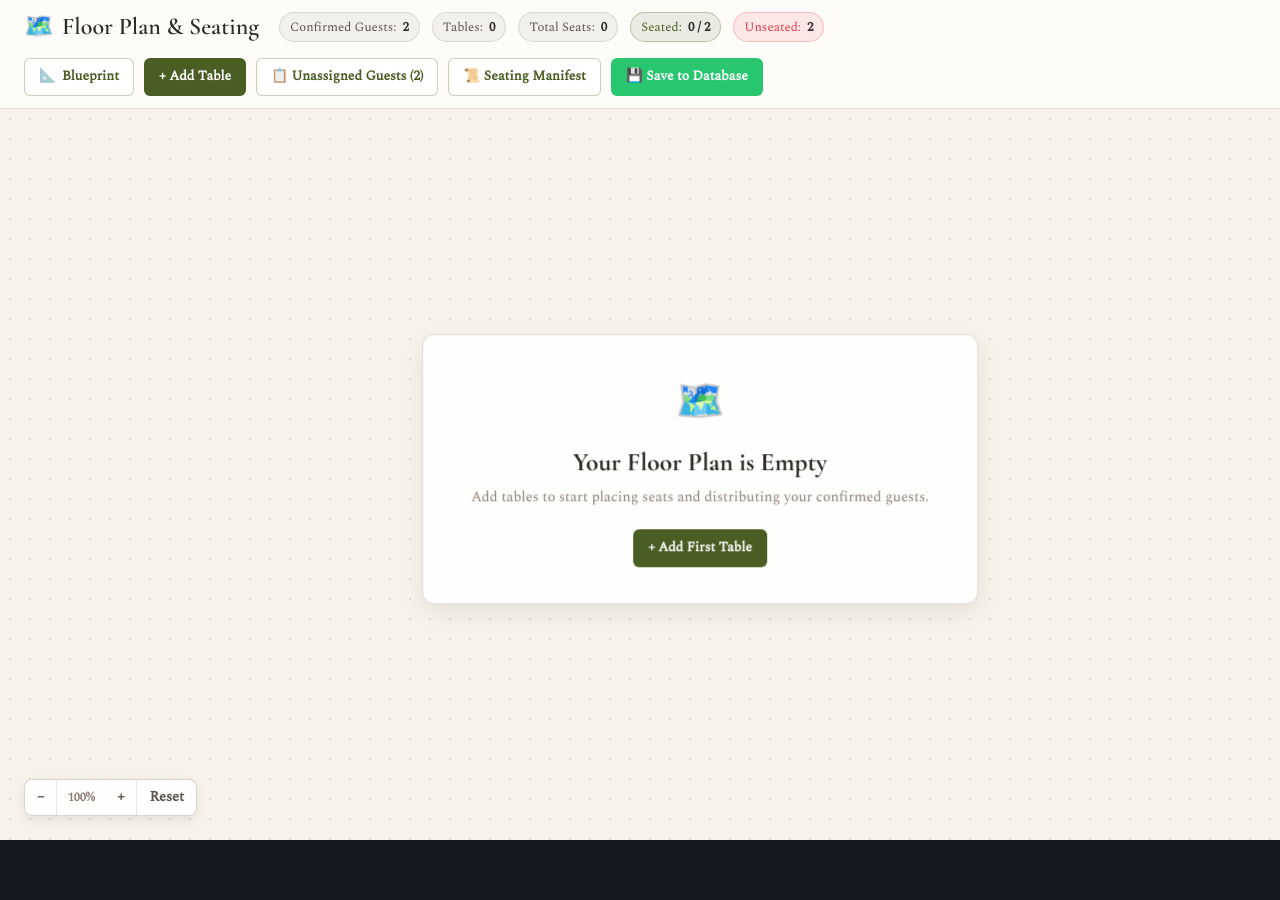
Scenario: FloorPlanView Component › toggles the Seating Manifest modal from the header action button
Click the button with test id "toggle-seating-manifest-btn": (525, 77) [448,58,601,96]
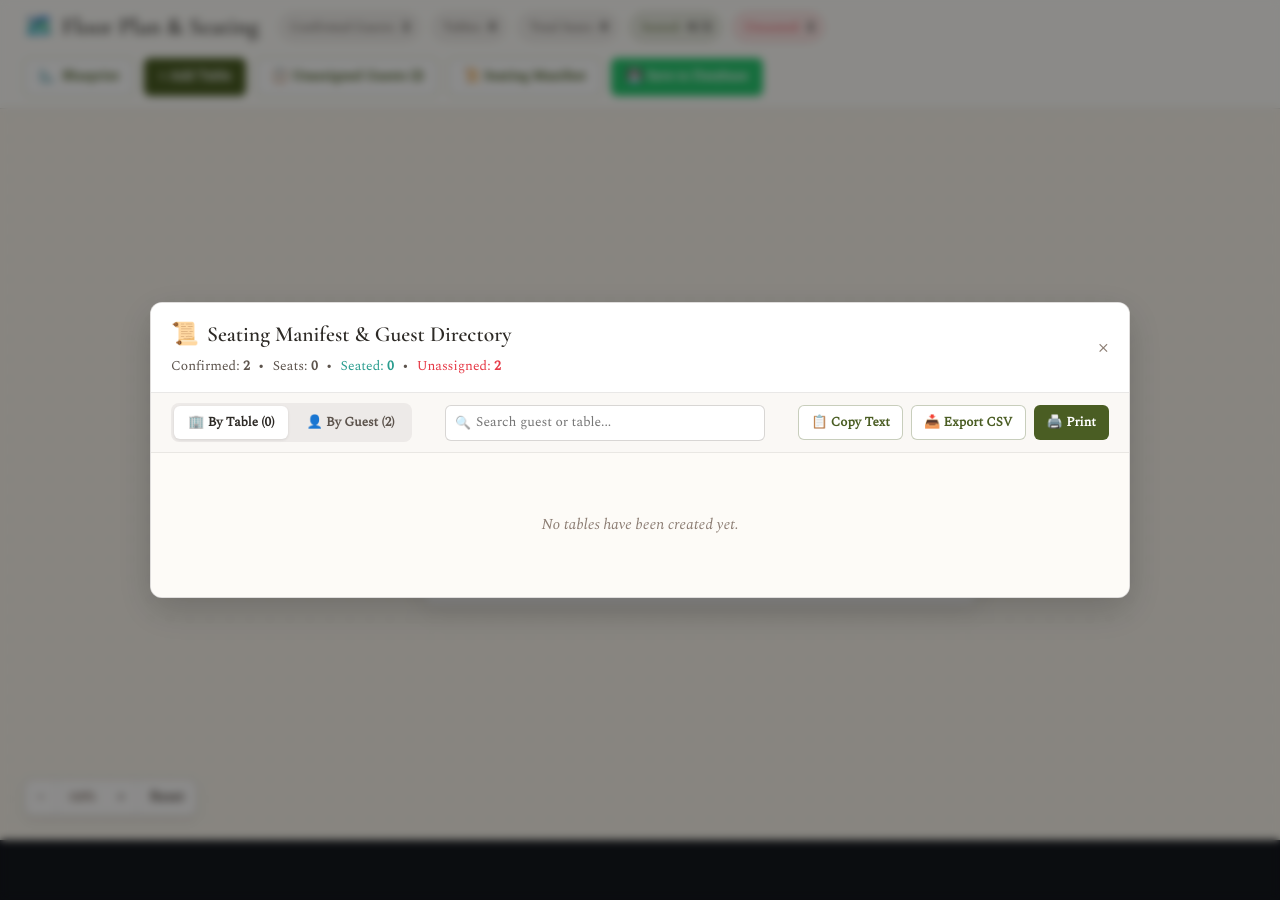
Expected: the element with test id "seating-manifest-modal" is shown, [150,302,1130,598]
Expected: the heading "Seating Manifest & Guest Directory" is shown, [207,322,512,347]
Note: Close modal
Click the button with test id "close-manifest-btn": (1103, 347) [1098,336,1109,358]
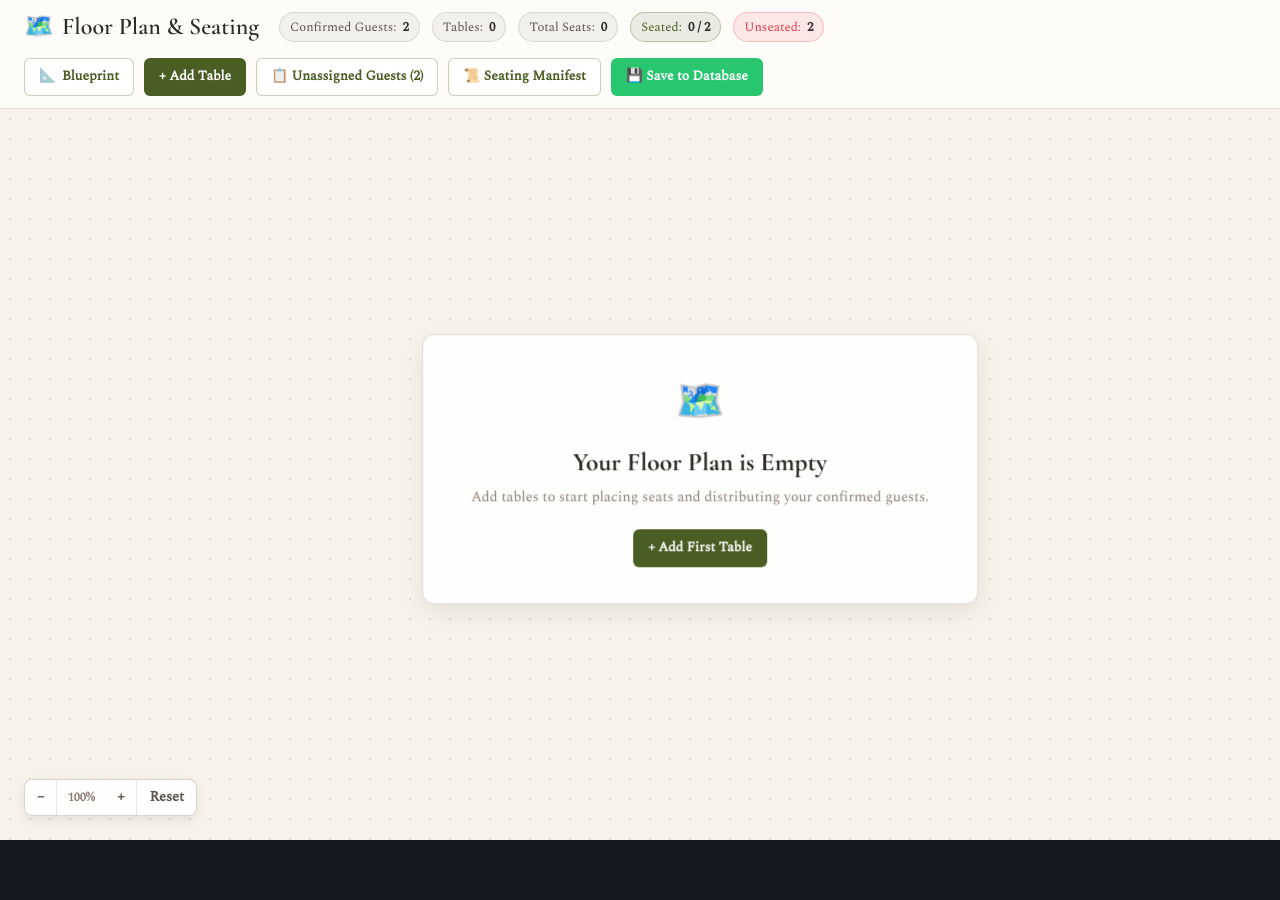
Expected: the element with test id "seating-manifest-modal" is gone
